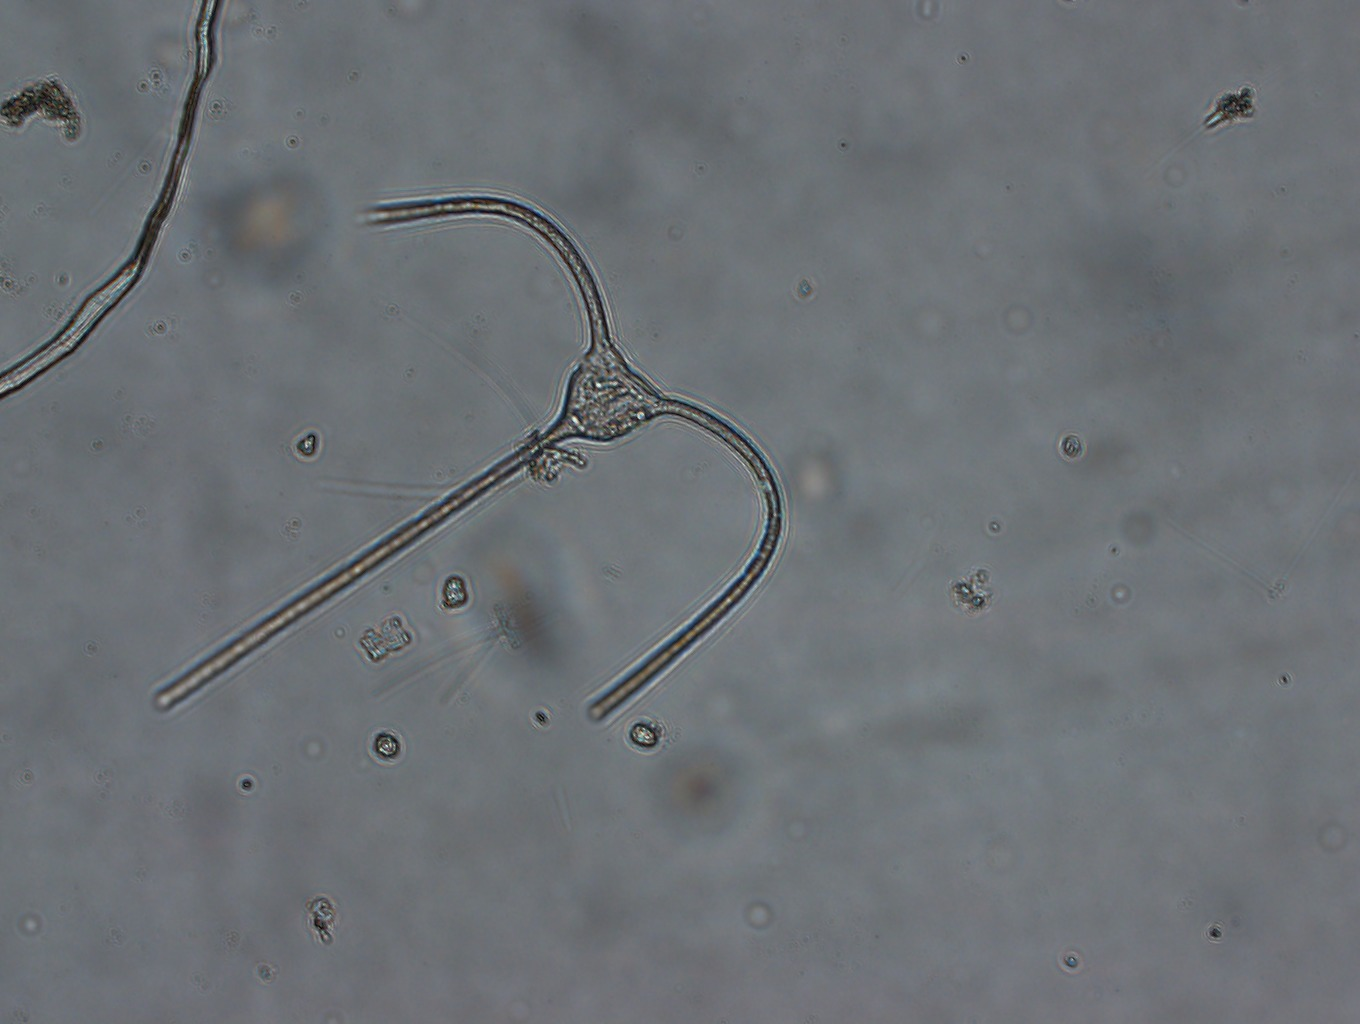ceratium trichoceros: (146, 193, 784, 724)
